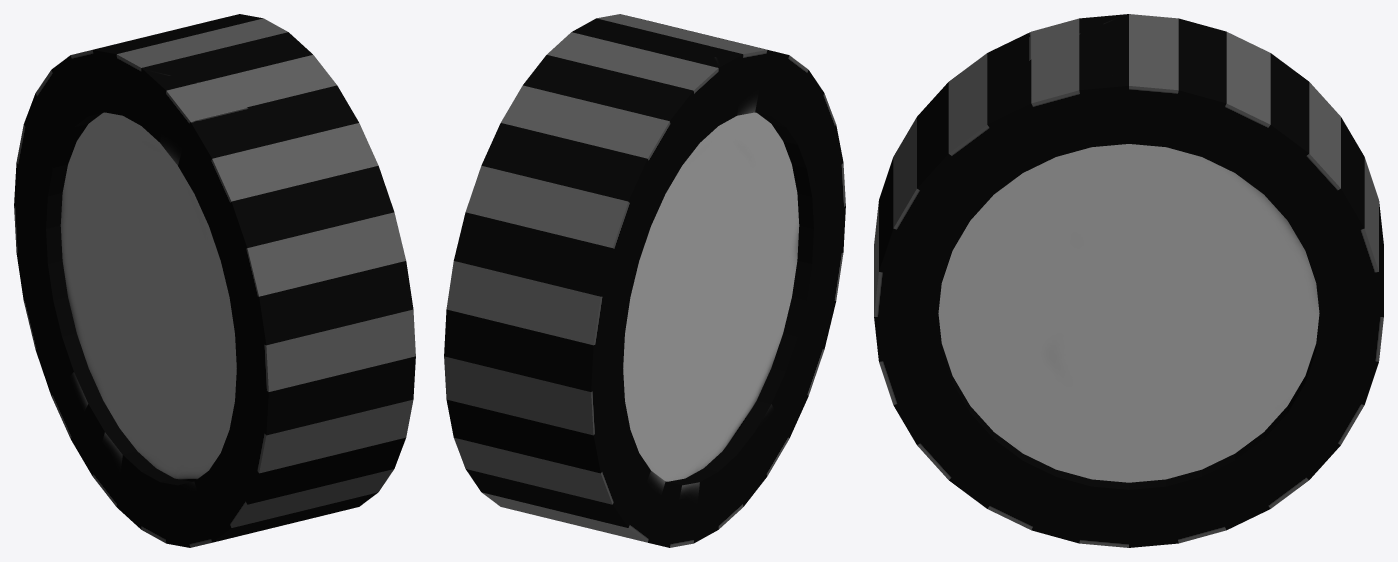
Rendered from Player.fbx.
3 views of the same model, side by side, from view 1: azimuth 30°, elevation 25°; view 2: azimuth 150°, elevation 25°; view 3: azimuth 270°, elevation 25° (orthographic).
Visible parts, largest first — view 1: 円柱.002; view 2: 円柱.002; view 3: 円柱.002.
Boxes of the visible parts, x1=… form: 円柱.002: x1=14, y1=14, x2=415, y2=547; 円柱.002: x1=444, y1=14, x2=845, y2=547; 円柱.002: x1=874, y1=14, x2=1383, y2=547.
Bounding box in the file's own units: 10 × 30 × 30.
1 material, 1 textured.
